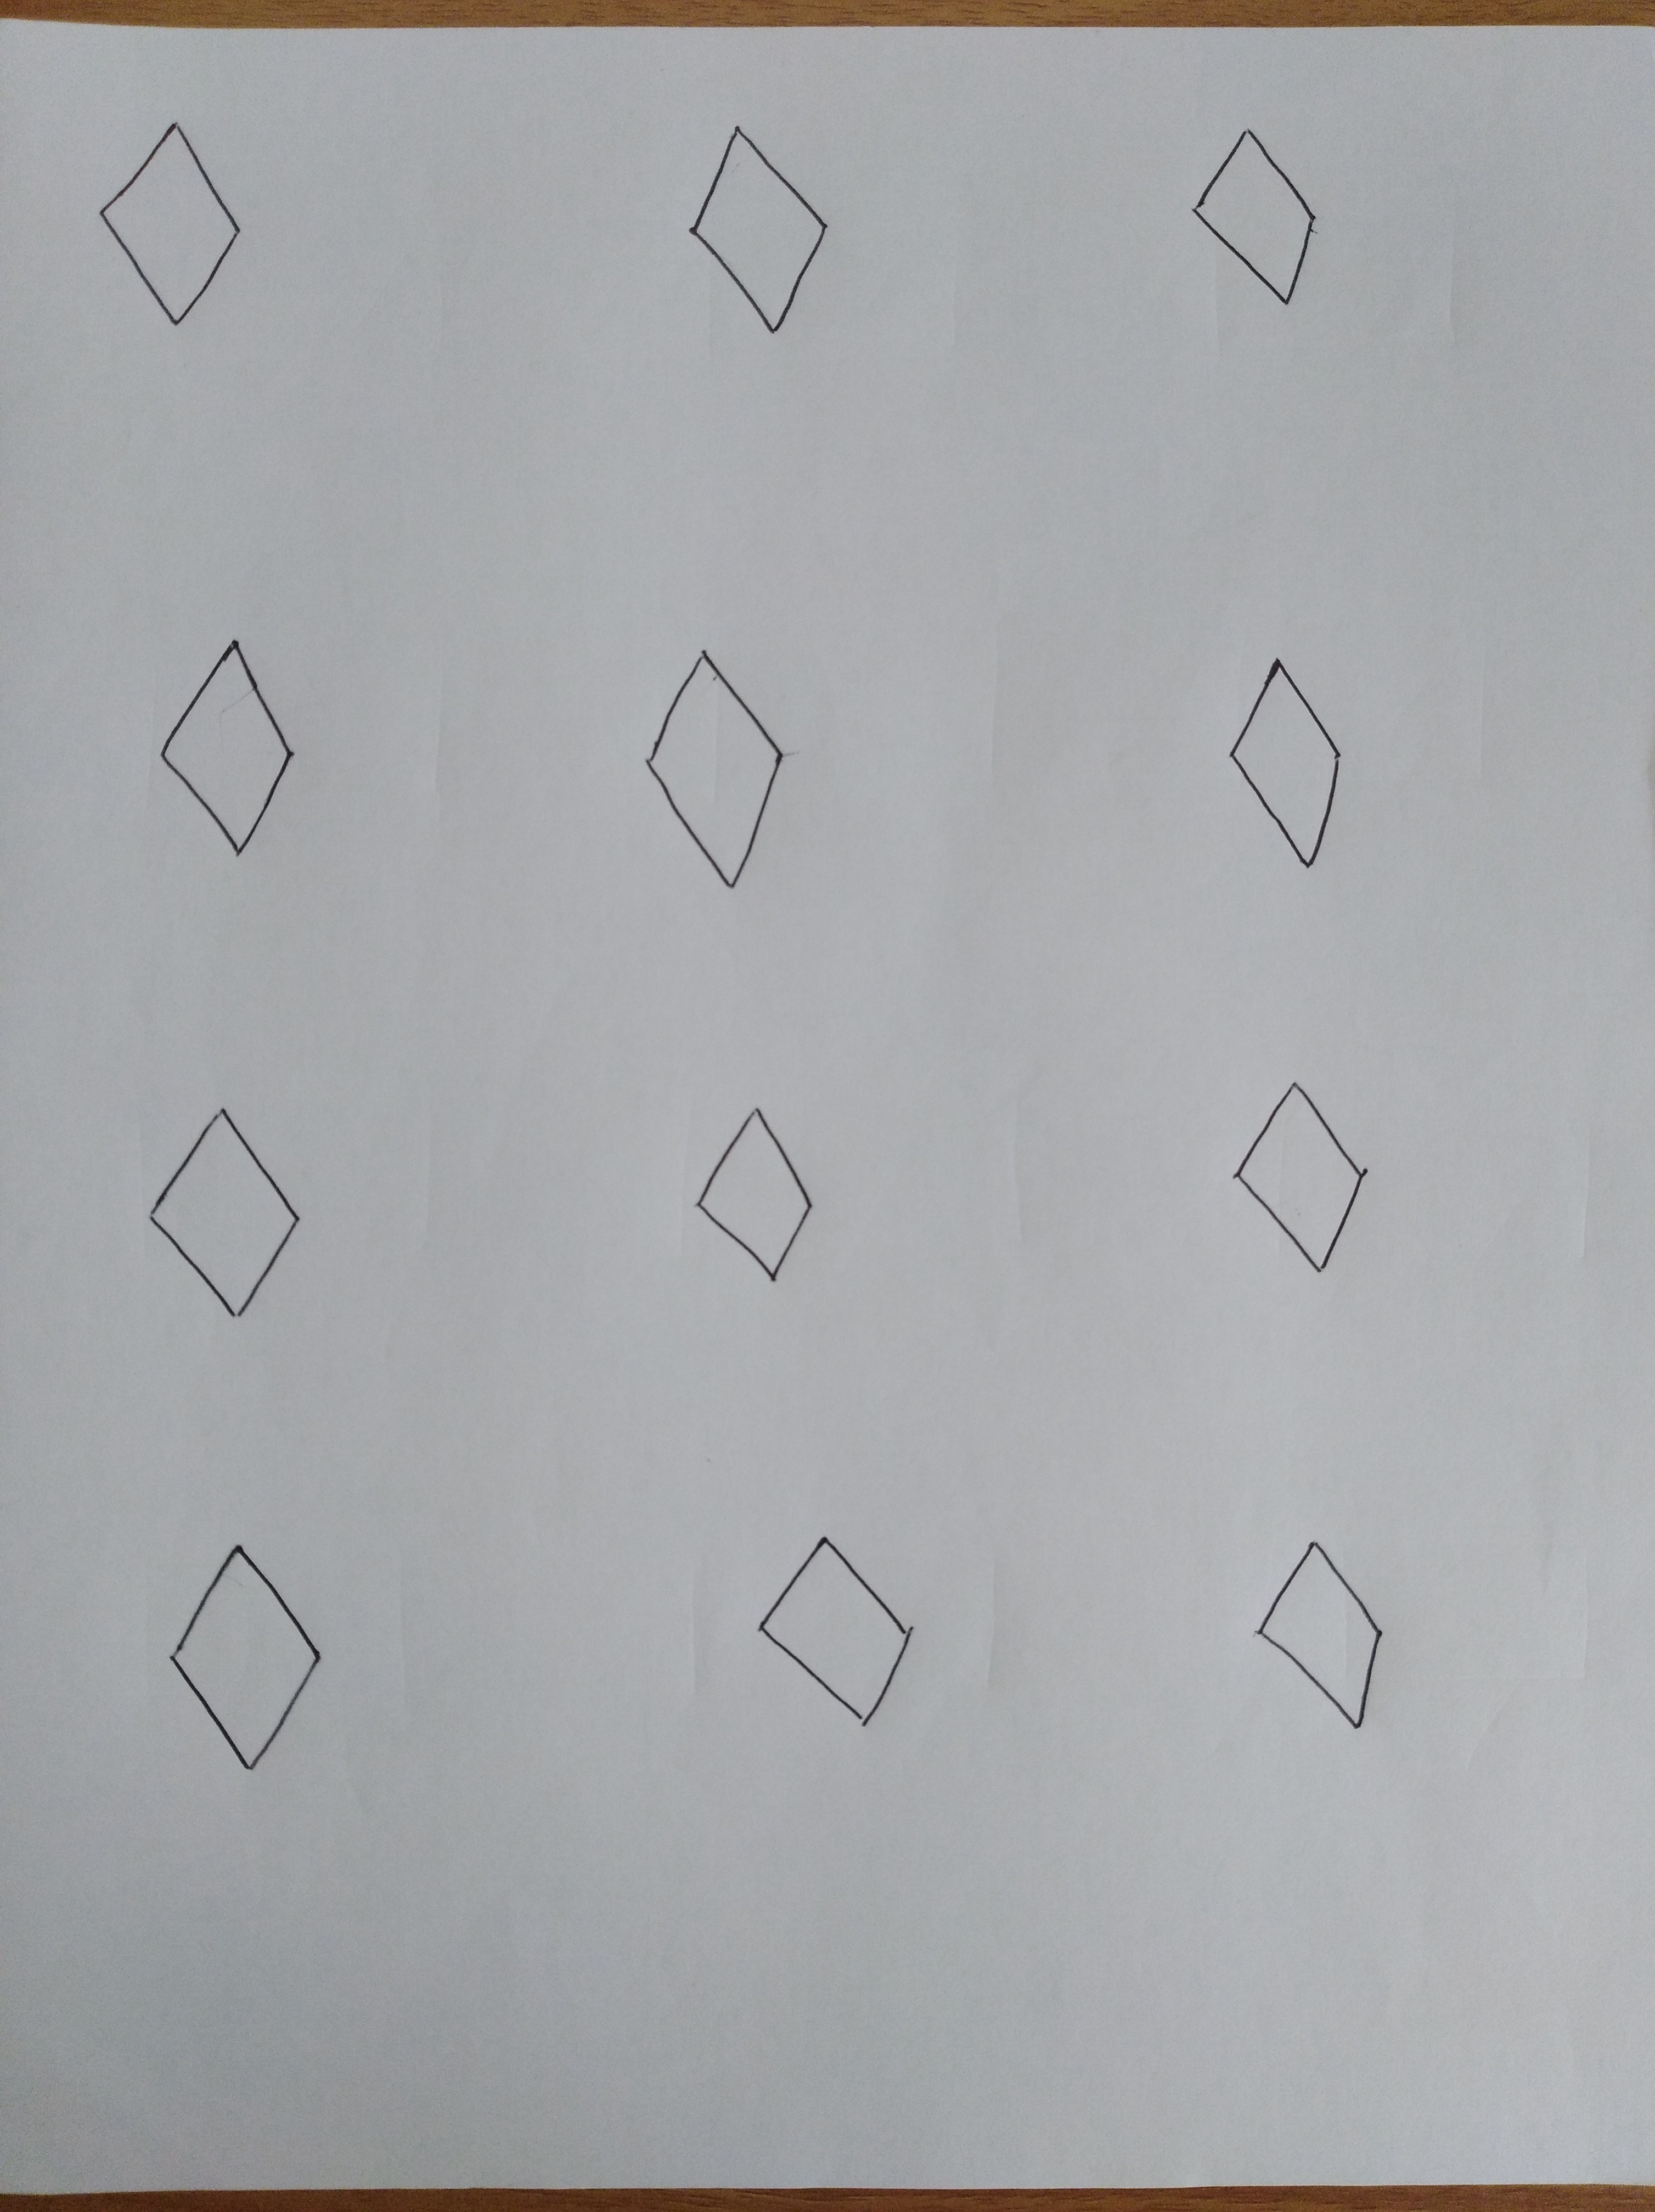decision: (572, 598, 850, 928), (85, 586, 356, 900), (111, 1517, 386, 1805), (92, 1076, 363, 1345), (1193, 1482, 1432, 1781), (615, 97, 887, 361), (695, 1491, 967, 1753), (1147, 70, 1384, 354), (75, 68, 294, 372), (1186, 612, 1405, 907), (640, 1076, 864, 1312), (1189, 1062, 1408, 1298)
